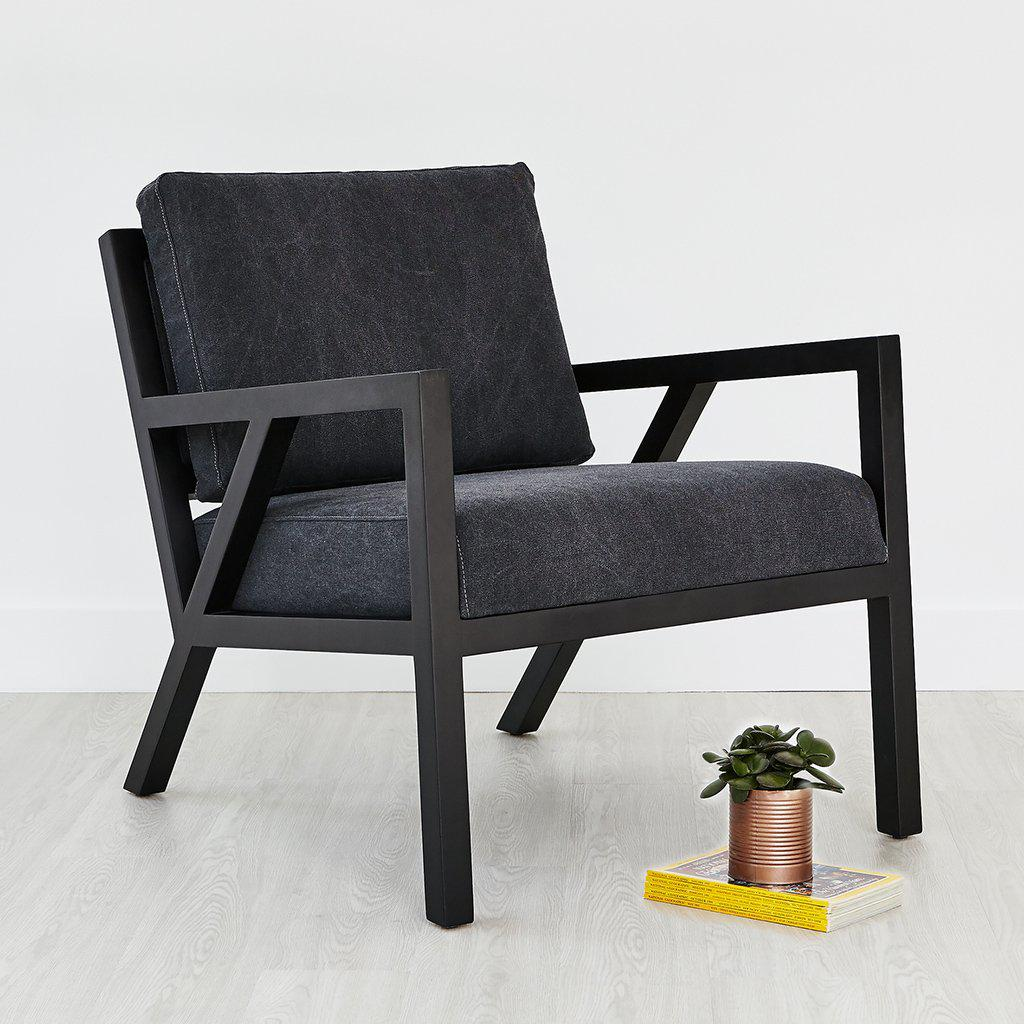chair: (53, 131, 960, 946)
